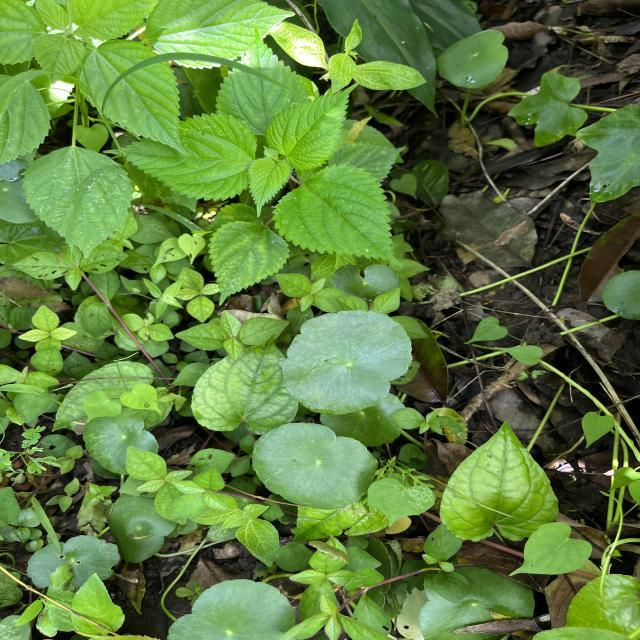Bacopa monnieri: (280, 307, 417, 418), (249, 419, 381, 512)
